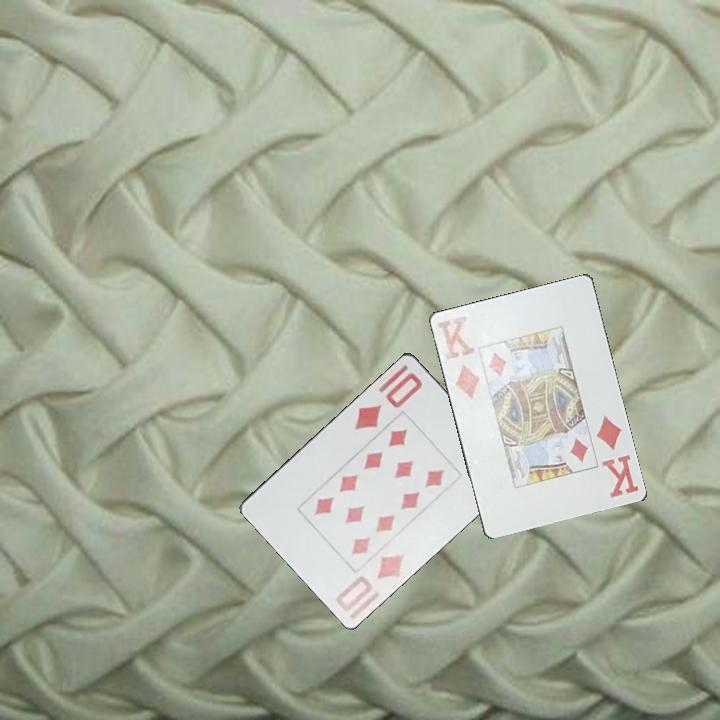Kd: (433, 312, 483, 401), (592, 411, 641, 500)
Td: (332, 549, 408, 614), (350, 369, 426, 433)
